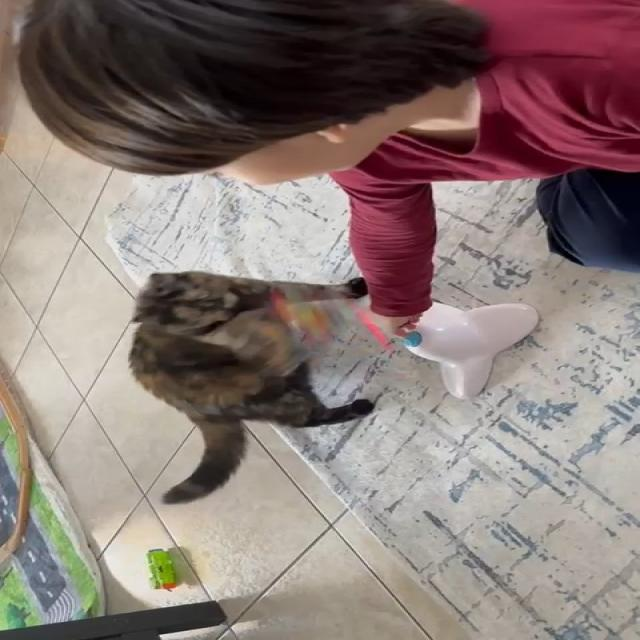authorized: (127, 270, 376, 505)
